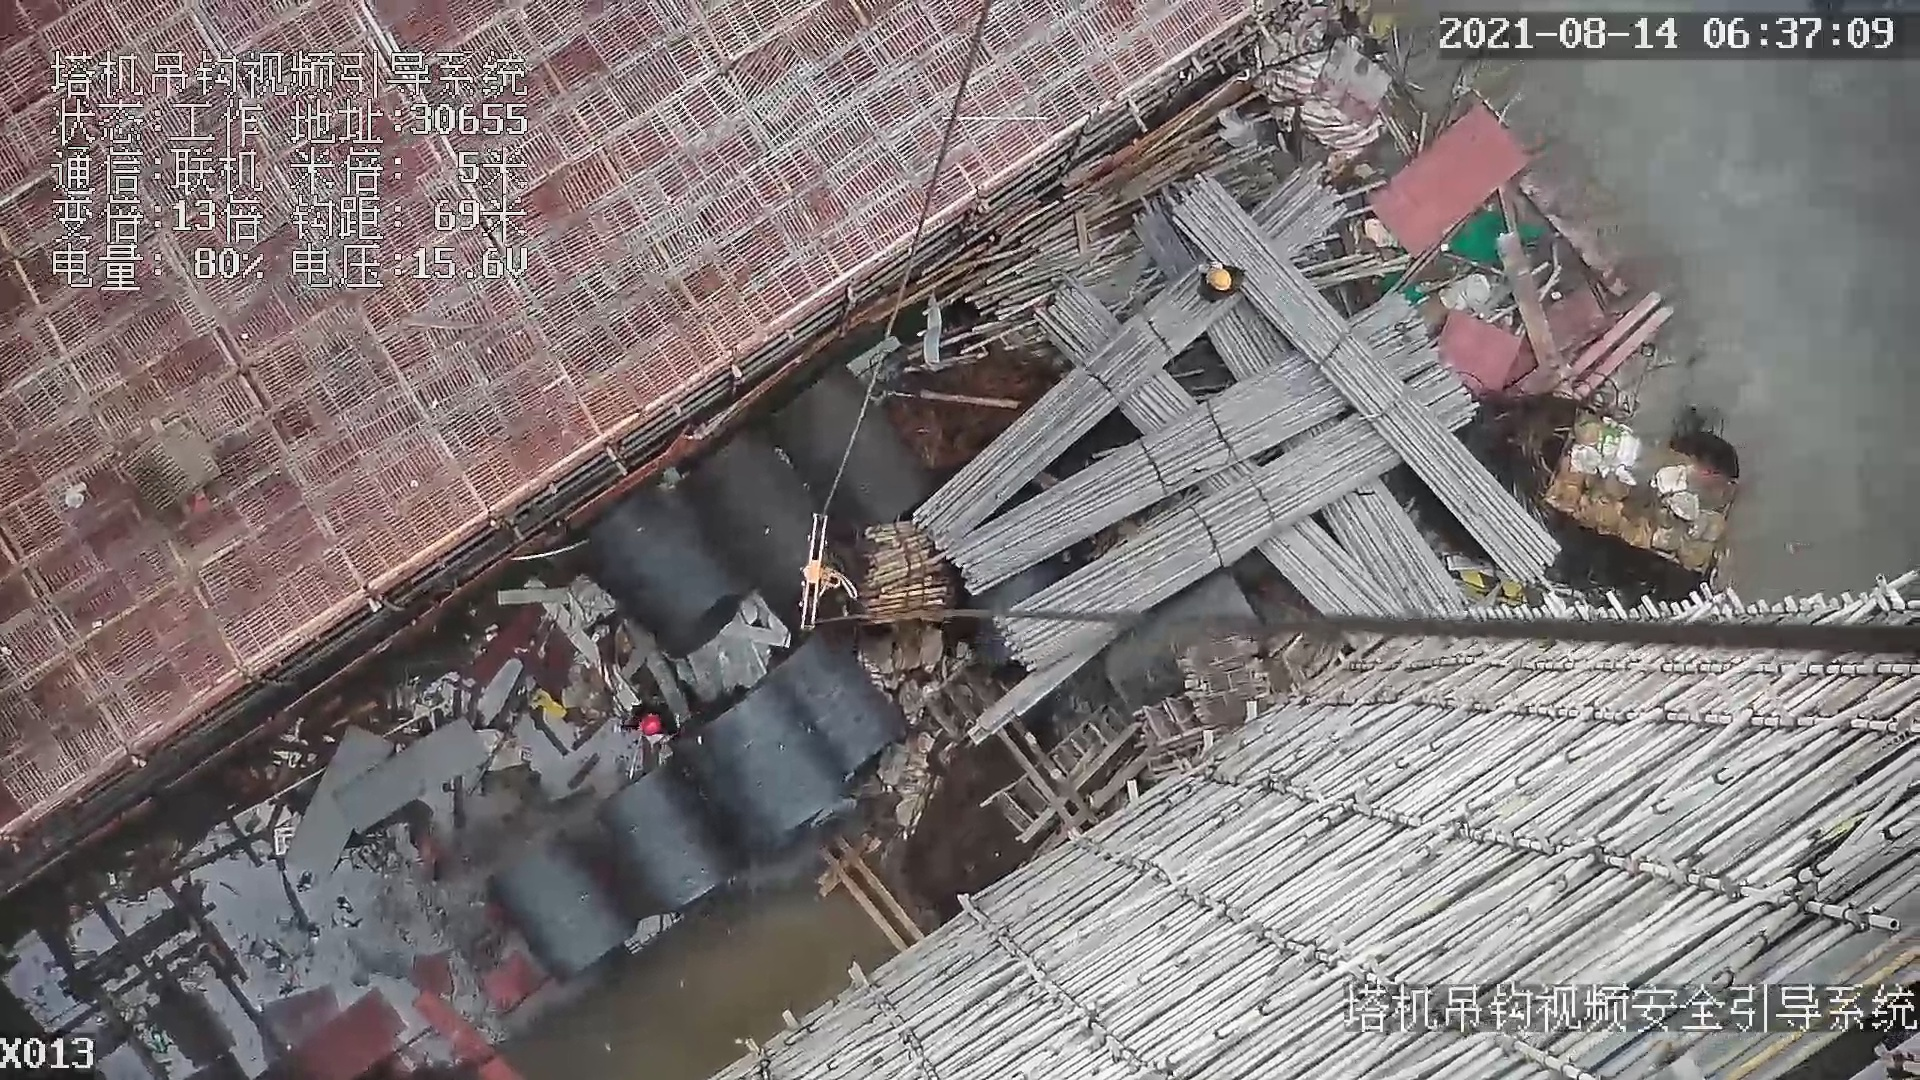helmet: (637, 711, 662, 740), (1206, 266, 1233, 291)
hook: (795, 513, 854, 636)
person: (615, 701, 685, 750), (1191, 258, 1255, 306)
scaffold: (954, 168, 1559, 639), (860, 518, 963, 622)
